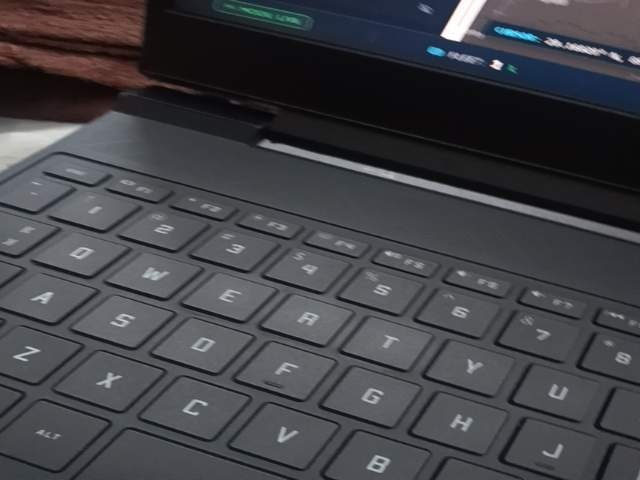pothole: (101, 403, 304, 480)
